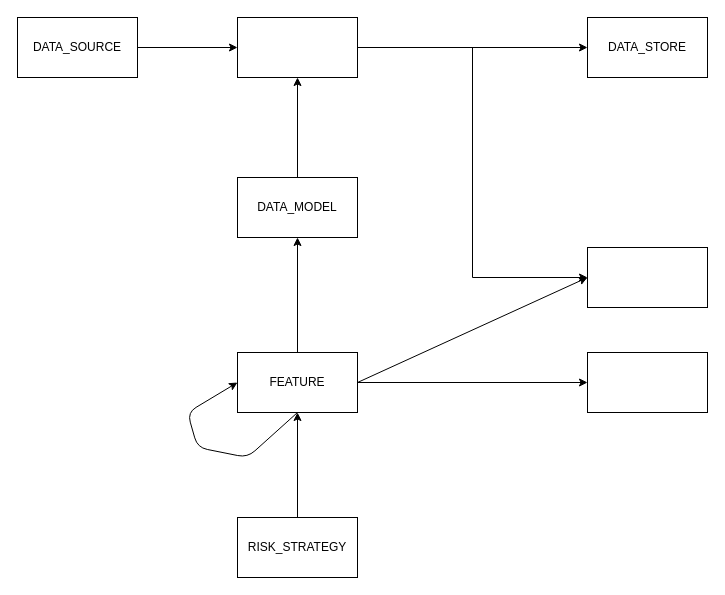
The diagram is 725 pixels wide and 595 high, and some of its shapes have lost their labels. Each missing label, with the centre of its shape:
"DIMENSION" belongs at point 647,277.
"SINK_STRATEGY" belongs at point 297,47.
"UDF" belongs at point 647,382.
